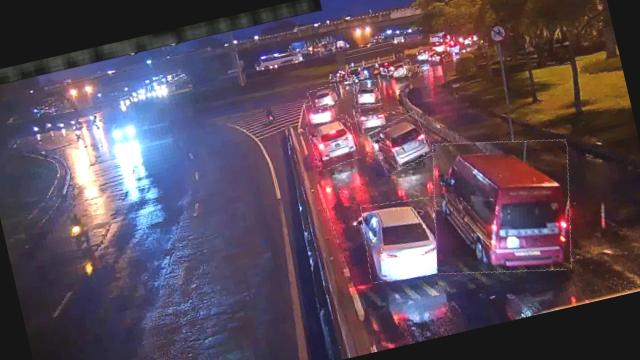Bus: (416, 121, 589, 292)
Car: (356, 193, 446, 287), (369, 112, 434, 173), (307, 114, 361, 170), (353, 104, 388, 134), (304, 98, 338, 128), (352, 78, 383, 108), (308, 84, 341, 110), (384, 60, 414, 80)
Truck: (348, 40, 404, 74)
